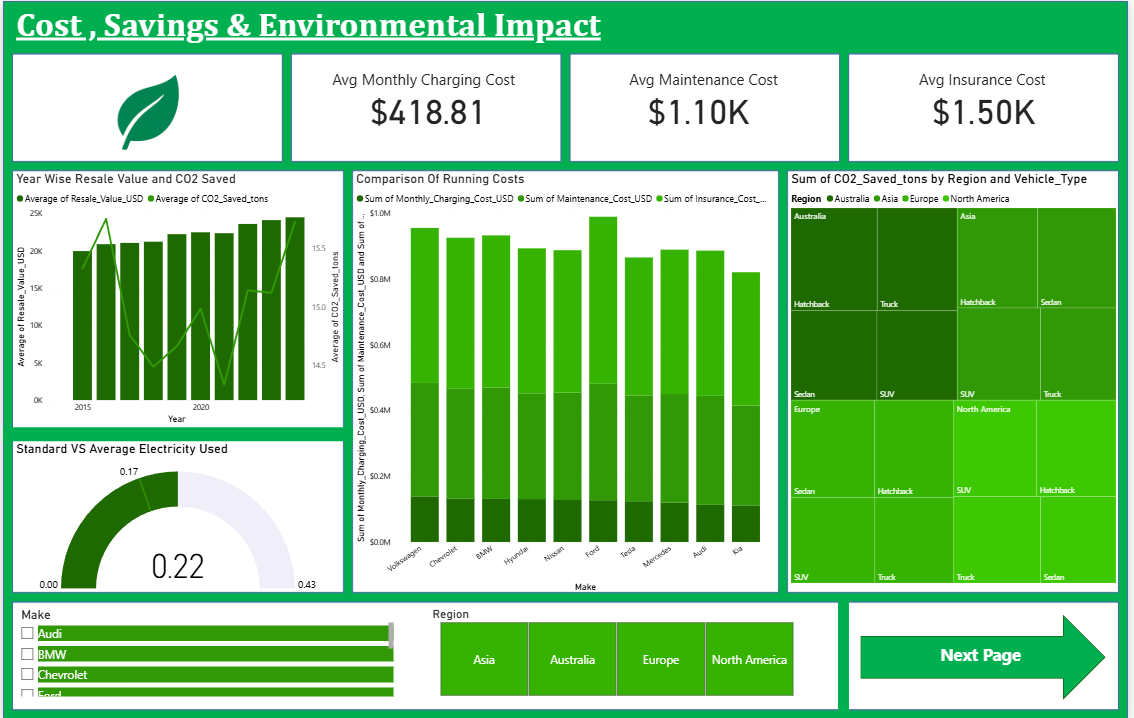

Layout of this report page (visuals, bound fields, positions):
{"tool":"powerbi","page":{"name":"Dashboard 1","canvas":[1800,1150],"ordinal":0},"visuals":[{"type":"columnChart","title":"Comparison Of Running Costs","fields":{"Category":["electric_vehicle_analytics.Make"],"Y":["Sum(electric_vehicle_analytics.Monthly_Charging_Cost_USD)","Sum(electric_vehicle_analytics.Maintenance_Cost_USD)","Sum(electric_vehicle_analytics.Insurance_Cost_USD)"]},"box":[560,272,680,678],"z":0},{"type":"lineClusteredColumnComboChart","title":"Year Wise Resale Value and CO2 Saved","fields":{"Category":["electric_vehicle_analytics.Year"],"Y":["Avg(electric_vehicle_analytics.Resale_Value_USD)"],"Y2":["Avg(electric_vehicle_analytics.CO2_Saved_tons)"]},"box":[16,272,528,410],"z":1000},{"type":"shape","box":[0,681.7,560,22.5],"z":2000},{"type":"treemap","fields":{"Group":["electric_vehicle_analytics.Region"],"Values":["Sum(electric_vehicle_analytics.CO2_Saved_tons)"],"Details":["electric_vehicle_analytics.Vehicle_Type"]},"box":[1256,272,530,664],"z":3000},{"type":"gauge","title":"Standard VS Average Electricity Used","fields":{"Y":["Avg(electric_vehicle_analytics.Electricity_Cost_USD_per_kWh)"],"TargetValue":["electric_vehicle_analytics.Target Electricity Cost"]},"box":[16,704,528,246],"z":4000},{"type":"slicer","fields":{"Values":["electric_vehicle_analytics.Make"]},"box":[16,964,614,154],"z":5000},{"type":"image","box":[16,84,430,188],"z":6000},{"type":"shape","box":[1371.2,982,392,136],"z":7000},{"type":"textbox","box":[1482,1022,164,48],"z":8000},{"type":"card","fields":{"Values":["Avg(electric_vehicle_analytics.Monthly_Charging_Cost_USD)"]},"box":[460,84,440,174],"z":9000},{"type":"textbox","box":[446,104,454,46],"z":10000},{"type":"card","fields":{"Values":["Avg(electric_vehicle_analytics.Maintenance_Cost_USD)"]},"box":[904,84,418,174],"z":11000},{"type":"textbox","box":[916,104,410,46],"z":12000},{"type":"card","fields":{"Values":["Avg(electric_vehicle_analytics.Insurance_Cost_USD)"]},"box":[1352,84,434,174],"z":13000},{"type":"textbox","box":[1352,104,430,46],"z":14000},{"type":"shape","box":[1335,950,17.5,187.5],"z":15000},{"type":"textbox","box":[16,0,1046,84],"z":16000},{"type":"slicer","fields":{"Values":["electric_vehicle_analytics.Region"]},"box":[674,964,614,154],"z":17000}]}

Visuals, with their boxes in screenshot pixels (x1, y1, x2, y2), scaled from the page's 1800x1150 canvas onto the 1134x718 screenshot:
"Comparison Of Running Costs" columnChart: BBox(353, 170, 781, 593)
"Year Wise Resale Value and CO2 Saved" lineClusteredColumnComboChart: BBox(10, 170, 343, 426)
shape: BBox(0, 426, 353, 440)
treemap - electric_vehicle_analytics.Region x Sum(electric_vehicle_analytics.CO2_Saved_tons): BBox(791, 170, 1125, 584)
"Standard VS Average Electricity Used" gauge: BBox(10, 440, 343, 593)
slicer - electric_vehicle_analytics.Make: BBox(10, 602, 397, 698)
image: BBox(10, 52, 281, 170)
shape: BBox(864, 613, 1111, 698)
textbox: BBox(934, 638, 1037, 668)
card - Avg(electric_vehicle_analytics.Monthly_Charging_Cost_USD): BBox(290, 52, 567, 161)
textbox: BBox(281, 65, 567, 94)
card - Avg(electric_vehicle_analytics.Maintenance_Cost_USD): BBox(570, 52, 833, 161)
textbox: BBox(577, 65, 835, 94)
card - Avg(electric_vehicle_analytics.Insurance_Cost_USD): BBox(852, 52, 1125, 161)
textbox: BBox(852, 65, 1123, 94)
shape: BBox(841, 593, 852, 710)
textbox: BBox(10, 0, 669, 52)
slicer - electric_vehicle_analytics.Region: BBox(425, 602, 811, 698)
